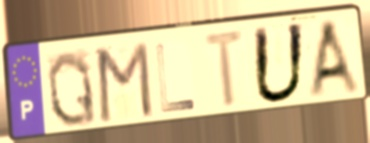A: (306, 16, 365, 98)
L: (153, 41, 198, 115)
M: (95, 39, 155, 125)
Q: (45, 48, 99, 129)
T: (202, 28, 249, 113)
U: (251, 21, 308, 107)
